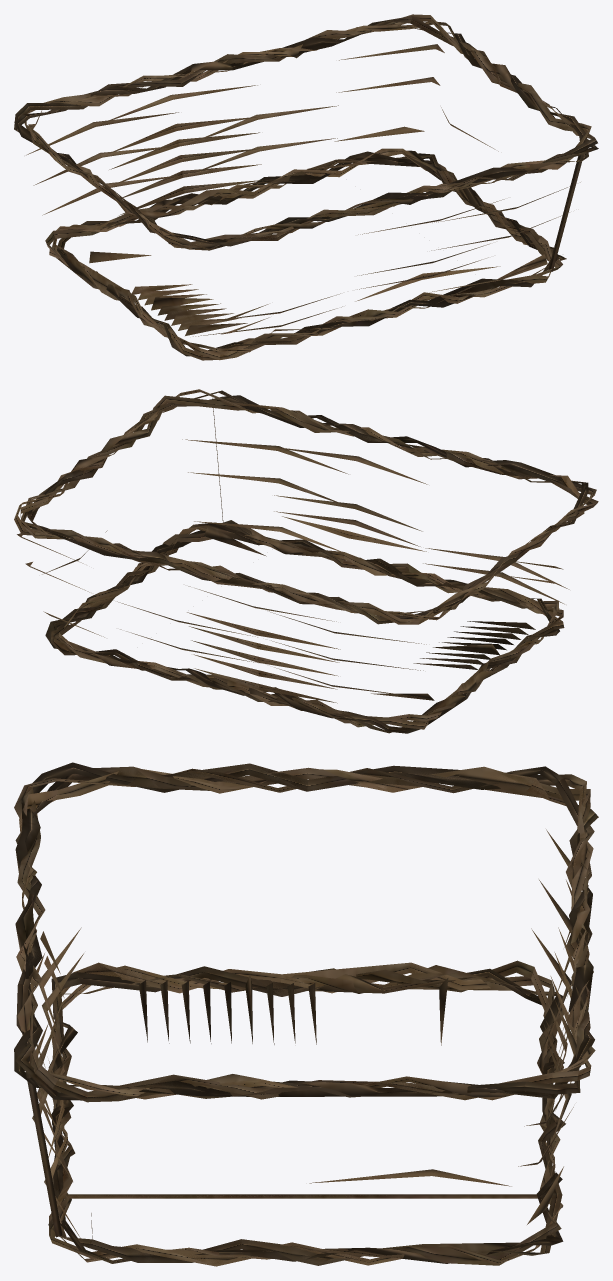
The model's file is wicker_basket_01.glb.
3 views of the same model, one above another, from view 1: azimuth 30°, elevation 25°; view 2: azimuth 150°, elevation 25°; view 3: azimuth 270°, elevation 25° (orthographic). The views are drawn at different scales.
Parts seen in each view (by area): view 1: wicker_basket_01; view 2: wicker_basket_01; view 3: wicker_basket_01.
Part boxes in pixels (x1,y1,x2,y2): wicker_basket_01: [14, 14, 598, 360]; wicker_basket_01: [14, 389, 598, 733]; wicker_basket_01: [14, 762, 598, 1266].
Bounding box in the file's own units: 0.3827 × 0.1172 × 0.2928.
1 material, 1 textured.
